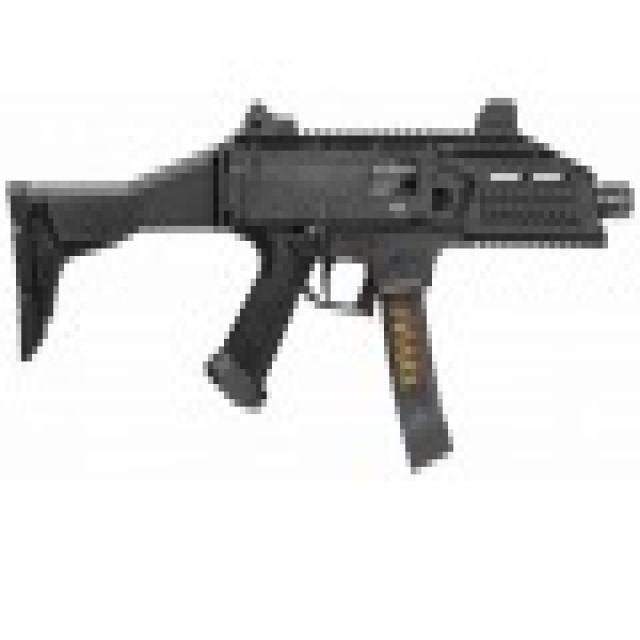Gun: (16, 52, 632, 445)
